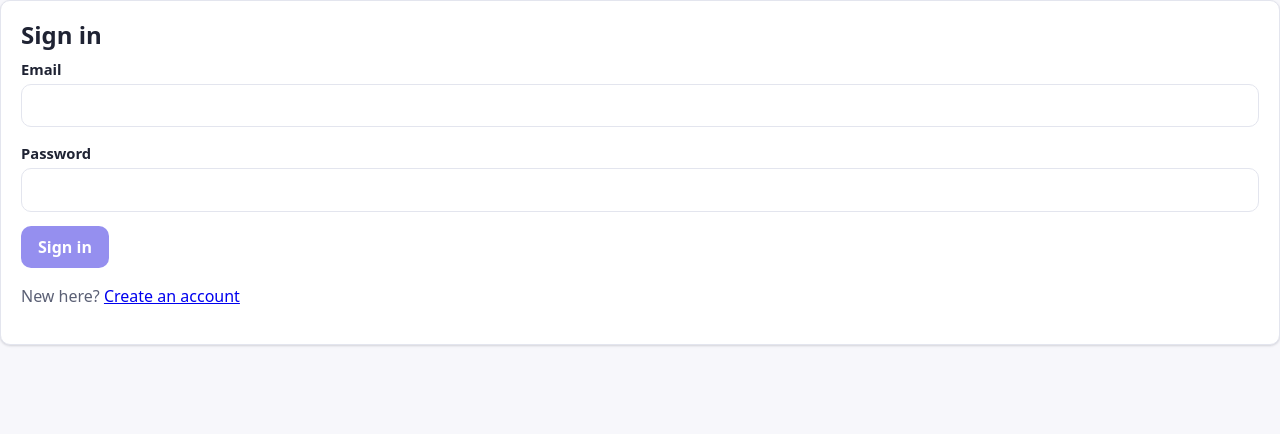
Test: LoginPage › shows the generic error for bad credentials
In the field labelled "Email": (640,106) [21, 84, 1259, 128], type "a@b.co"
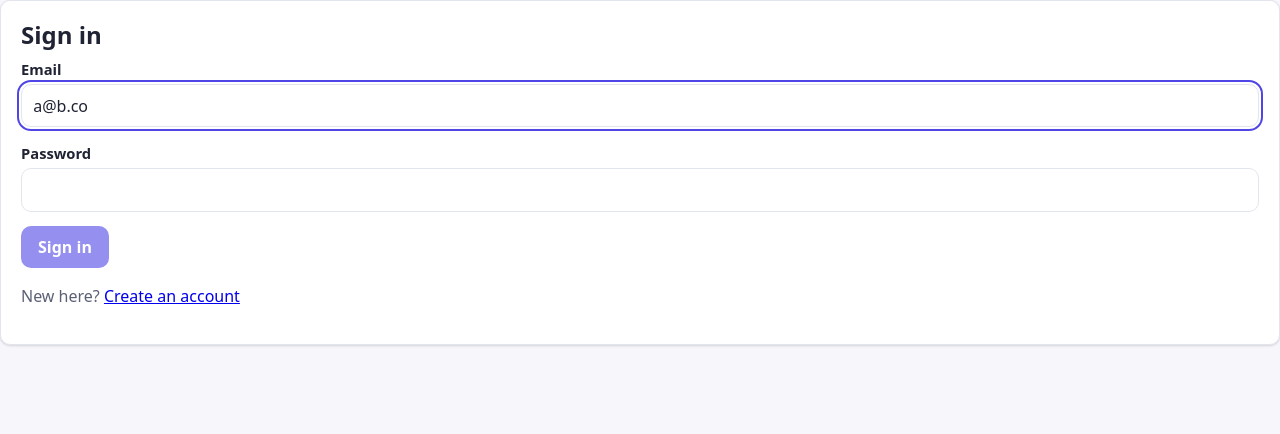
In the password field labelled "Password": (640,190) [21, 168, 1259, 212], type "nope"
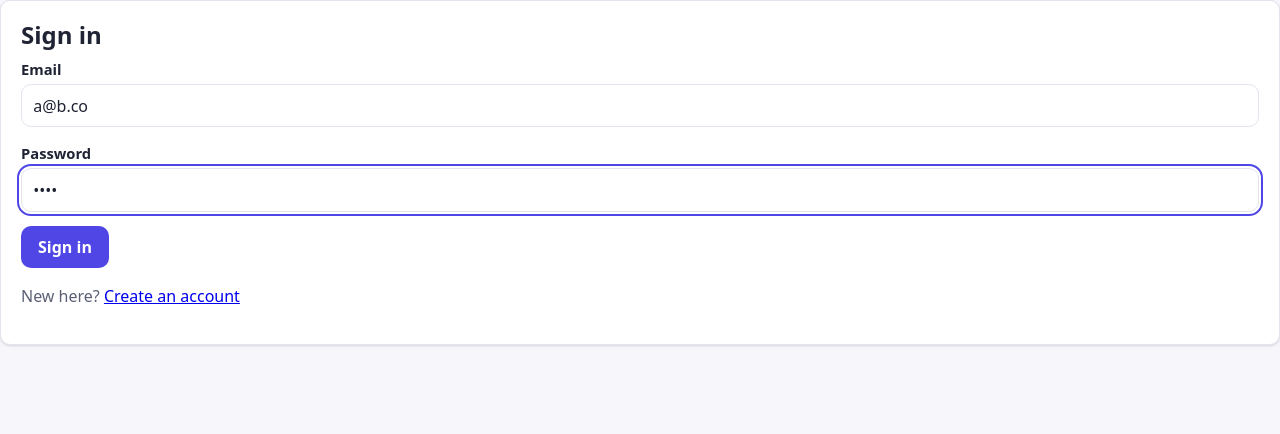
Click the button "Sign in": (65,247) [21, 226, 109, 268]
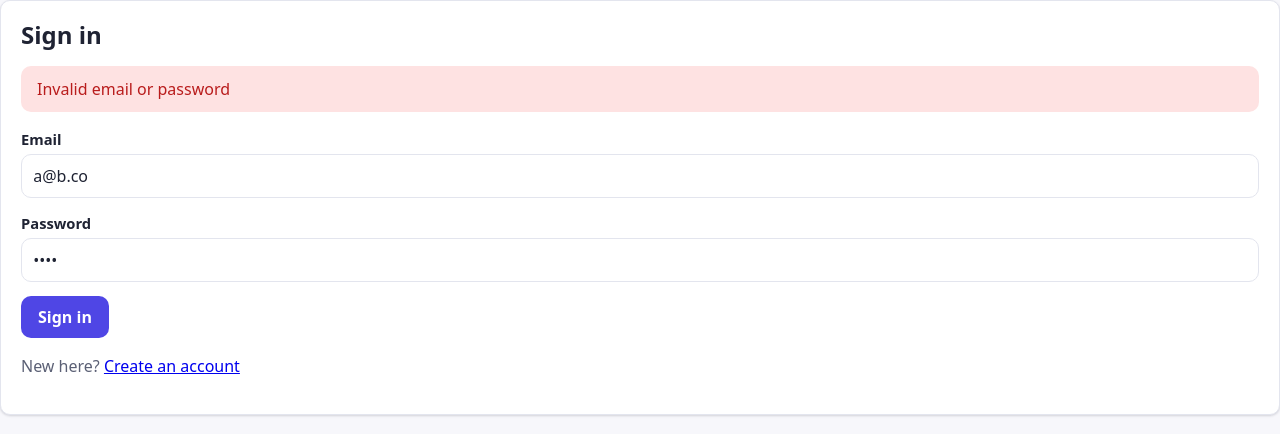
expect the message reads "Invalid email or password": met, box [37, 78, 230, 100]
